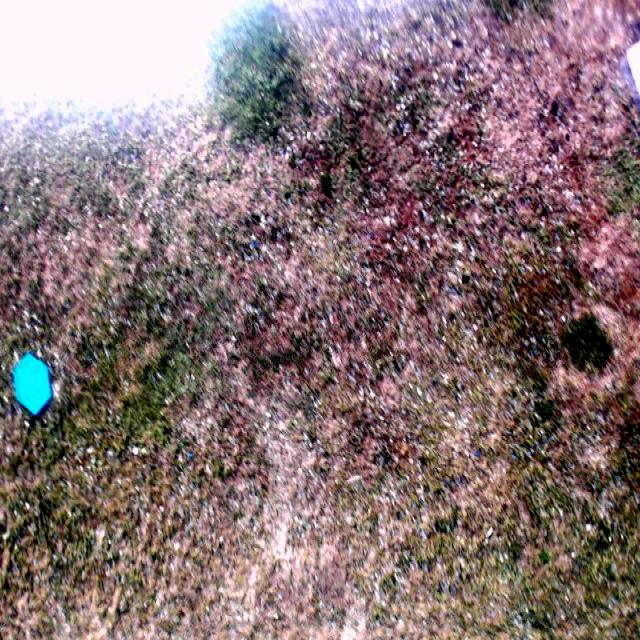blue_hexagon: (13, 351, 52, 419)
